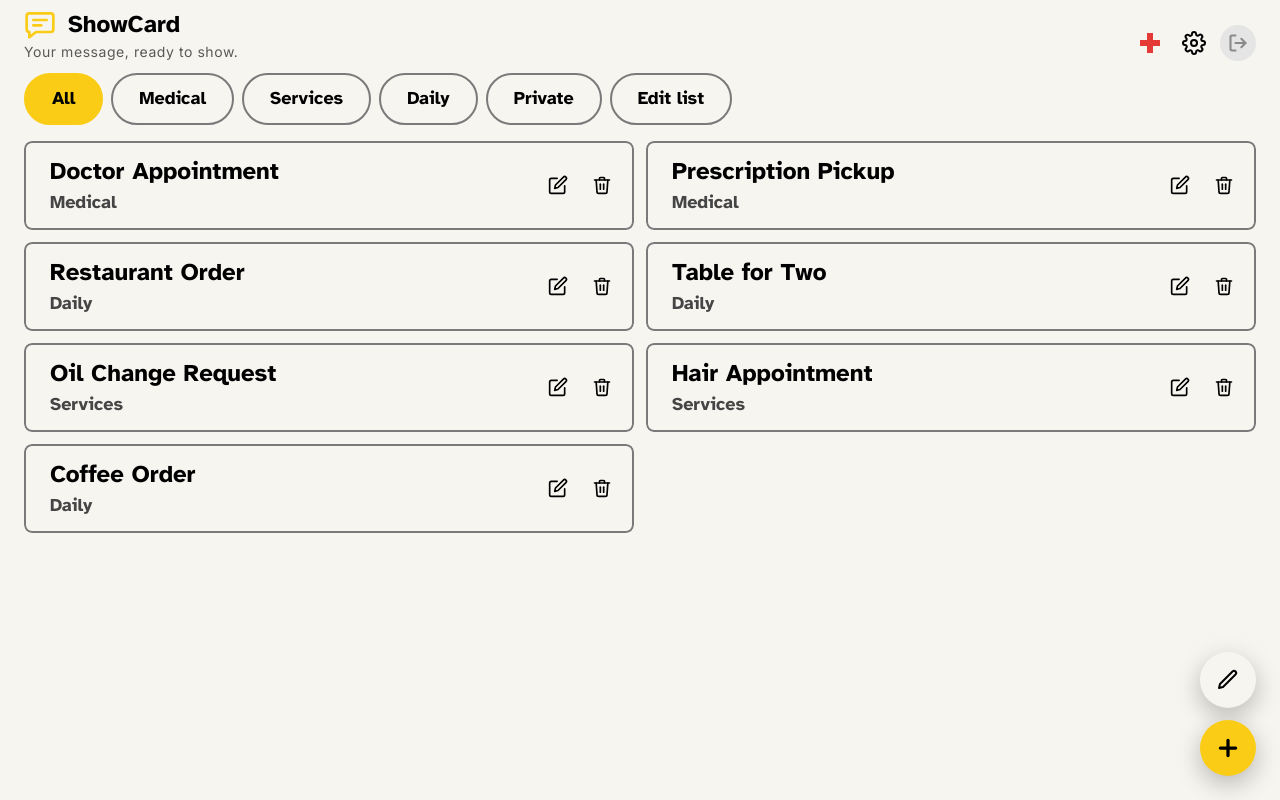
Scenario: App: first run › opens a card in the full-screen viewer
This screenshot has width=1280, height=800.
Click the heading "Doctor Appointment" at coordinates (164, 171), box [50,156,279,186]
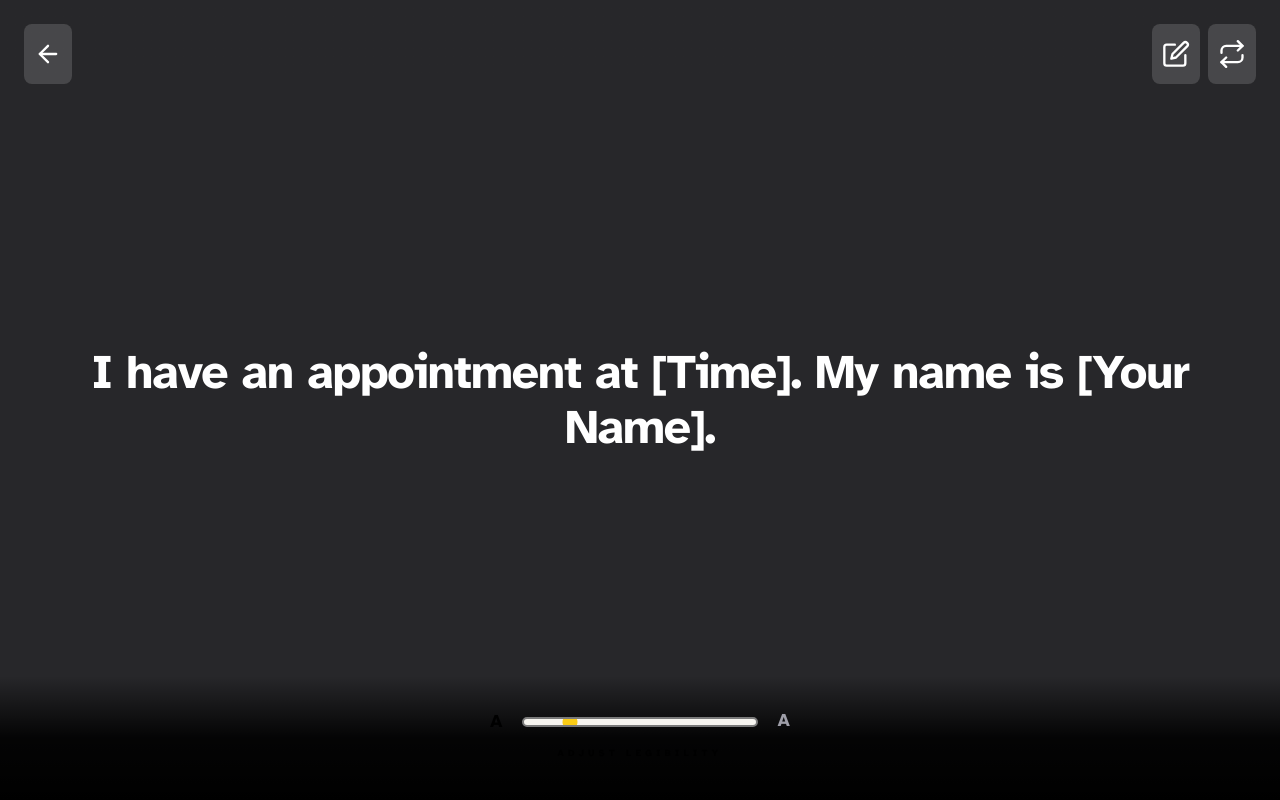
Check: the text "I have an appointment at [Time]. My name is [Your Name]." is shown, box [91,342,1203,457]
